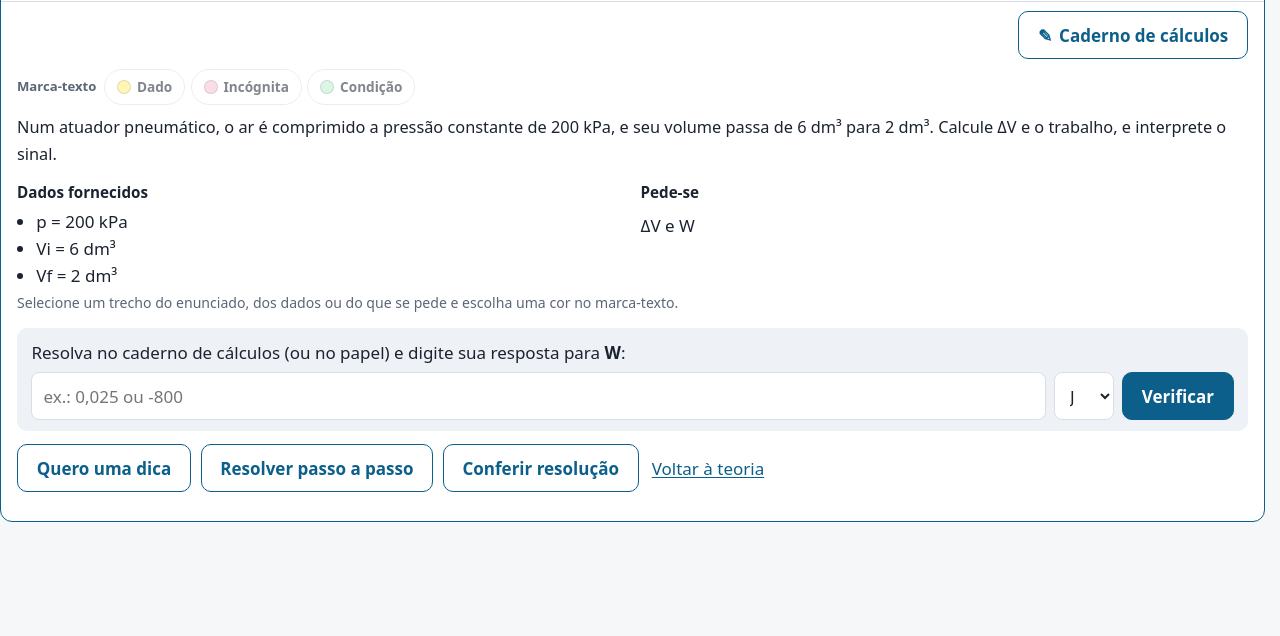
exercício numérico › valida o sinal, só mostra o esperado depois do acerto e permite refazer
Type "800" into the field labelled "digite sua resposta" at (539, 396), box [31,372,1046,420]
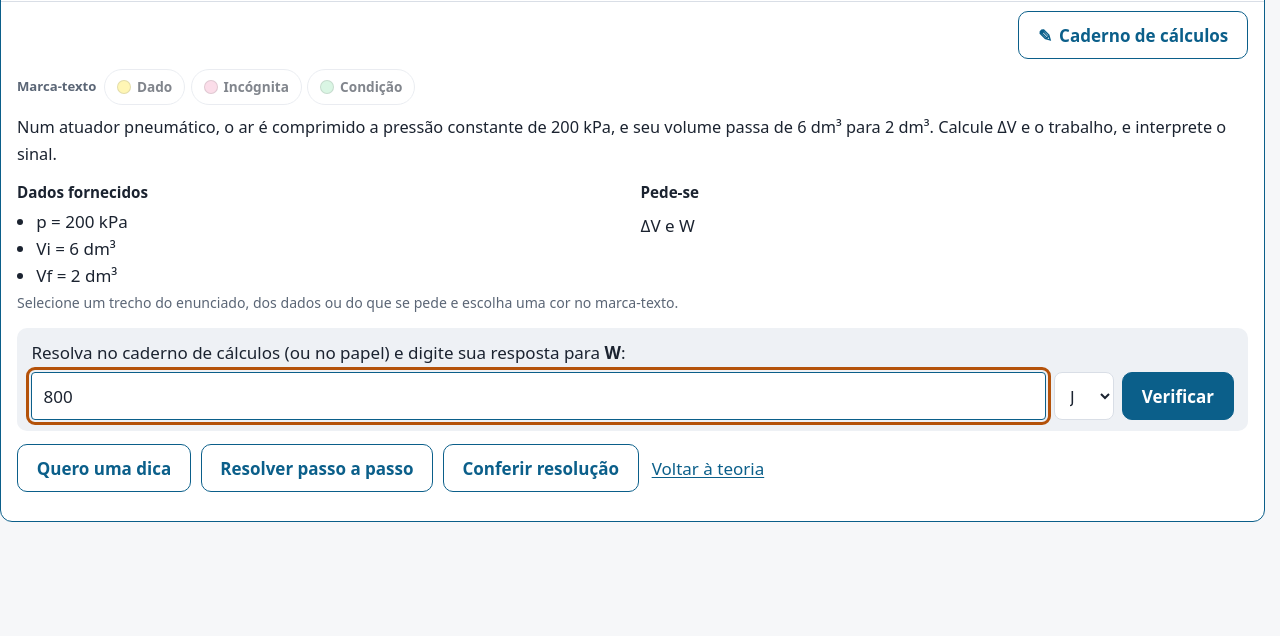
Click the button "Verificar" at (1178, 396), box [1122,372,1234,420]
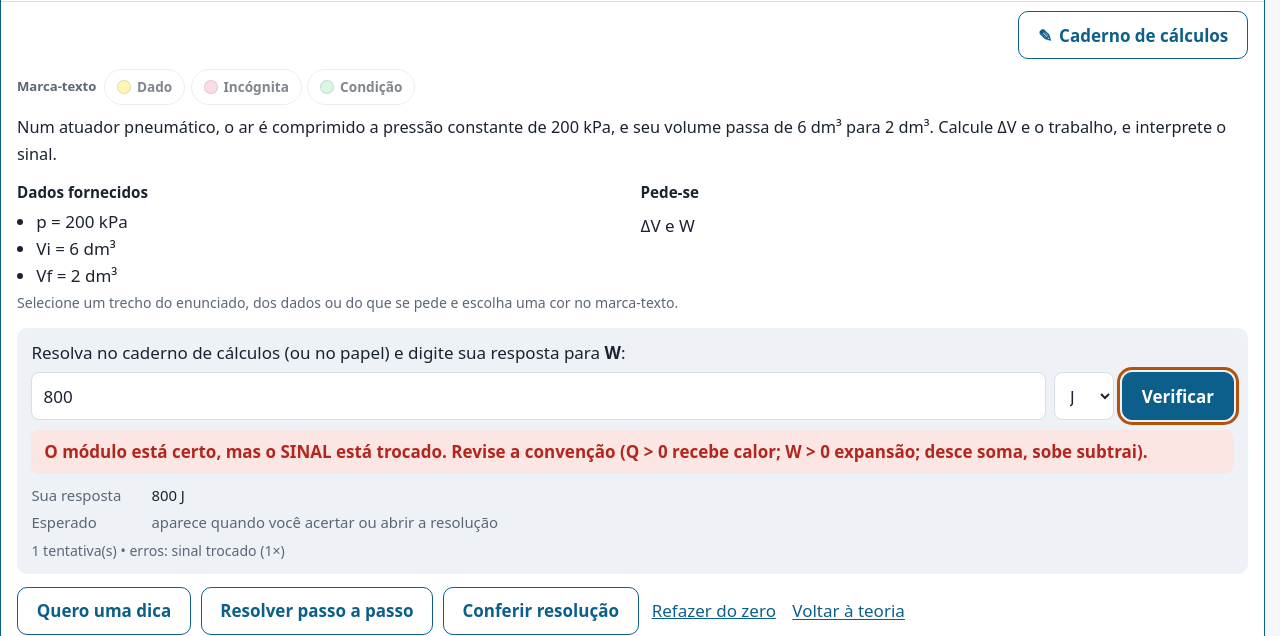
Expected: the text "SINAL está trocado" is shown, [44,440,1148,464]
Expected: the text "aparece quando você acertar ou abrir a resolução" is shown, [151,512,498,532]
Replace the text in the field labelled "digite sua resposta" with "-800" at (539, 396), box [31,372,1046,420]
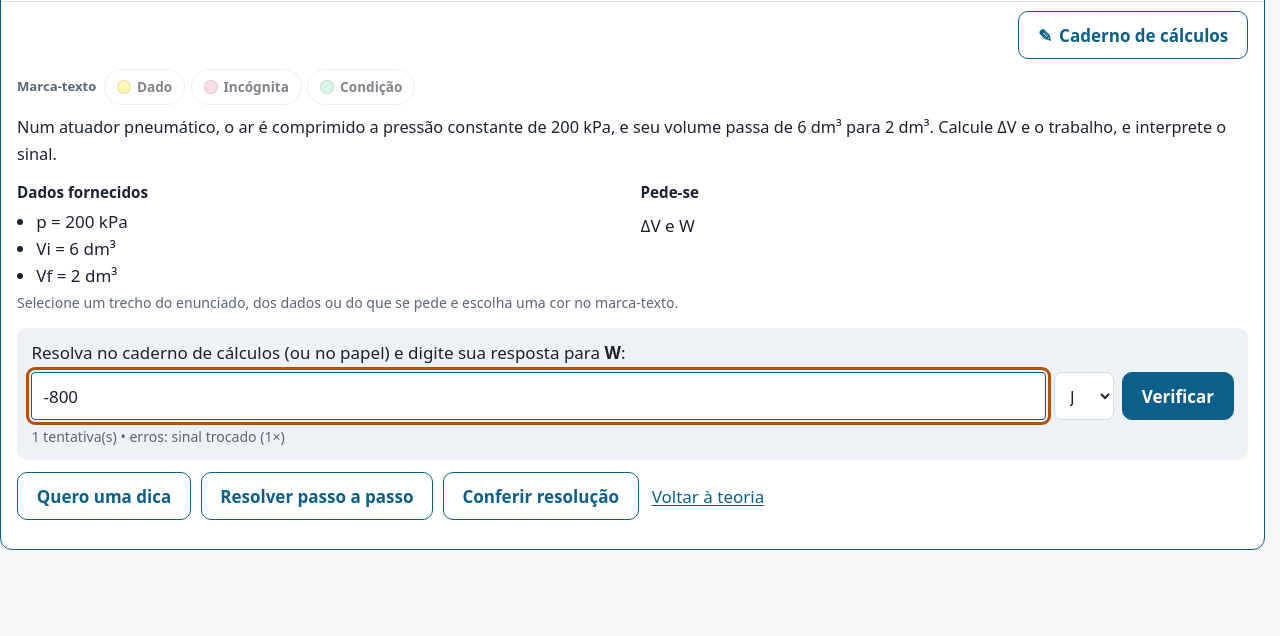
Click the button "Verificar" at (1178, 396), box [1122,372,1234,420]
(page scrolled)
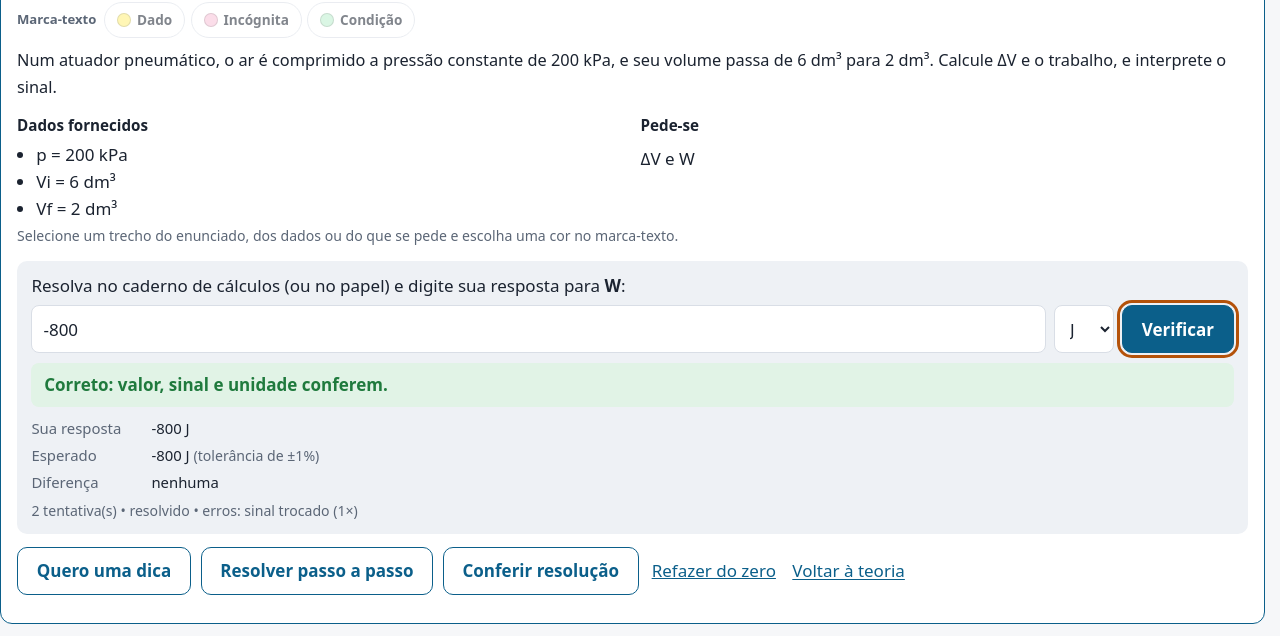
Expected: the text "Correto: valor, sinal e unidade conferem." is shown, [31,364,1234,407]
Expected: the text "(tolerância de ±1%)" is shown, [194,446,319,465]
Click the button "Refazer do zero" at (714, 571), box [648,549,779,593]
(page scrolled)
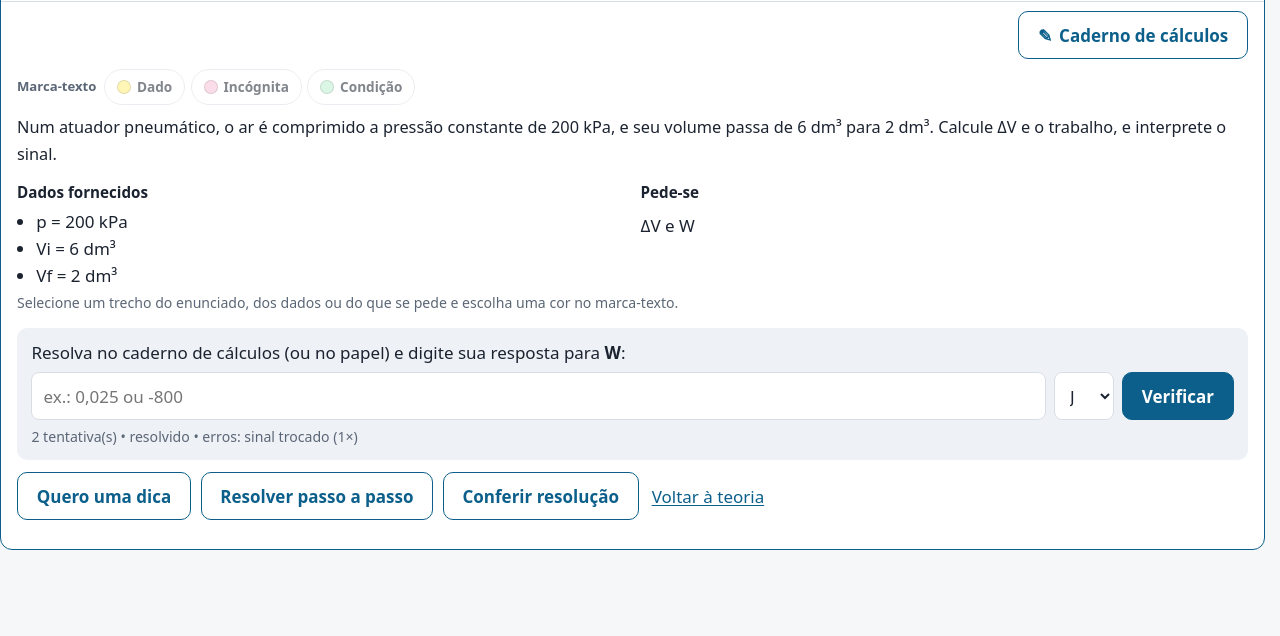
Expected: the field labelled "digite sua resposta" is empty, [31,372,1046,420]
